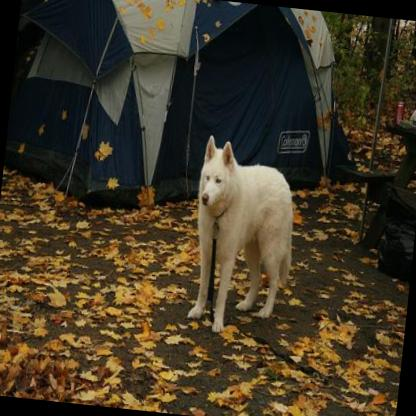Siberian_husky: (180, 134, 302, 340)
